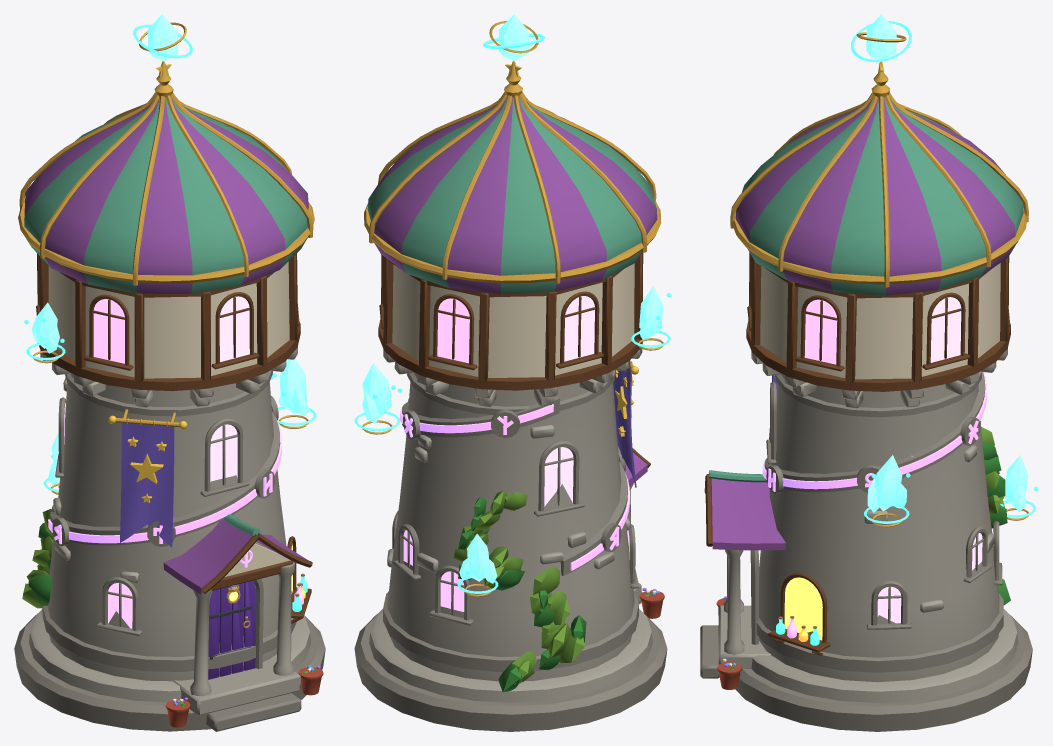
The model's file is bld_magic_shop.glb.
3 renders of one model, left to right at view 1: azimuth 30°, elevation 25°; view 2: azimuth 150°, elevation 25°; view 3: azimuth 270°, elevation 25°, orthographic.
Parts seen in each view (by area): view 1: MagicShop; view 2: MagicShop; view 3: MagicShop.
Part boxes in pixels (left/top/right/bottom): MagicShop: left=14, top=14, right=325, bottom=731; MagicShop: left=354, top=14, right=671, bottom=731; MagicShop: left=700, top=14, right=1038, bottom=731.
Size of what is drawn, in the model's own units: 7.16 by 15.03 by 7.08.
